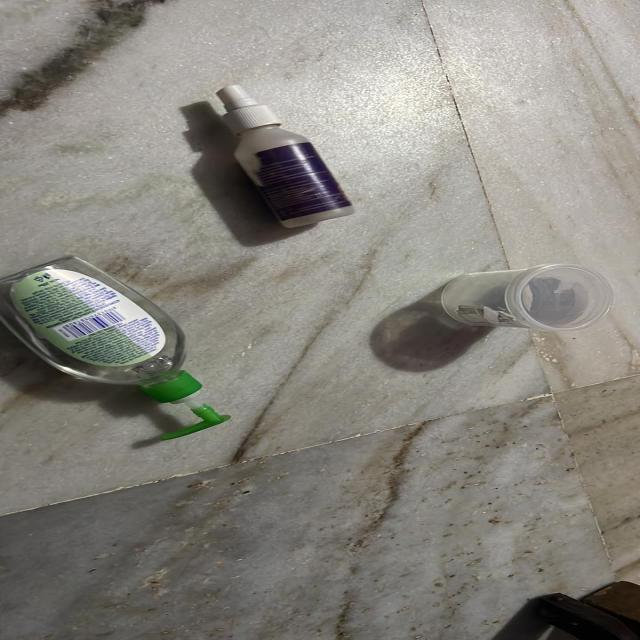dry: (0, 255, 248, 457), (188, 75, 385, 241), (430, 245, 611, 353)
